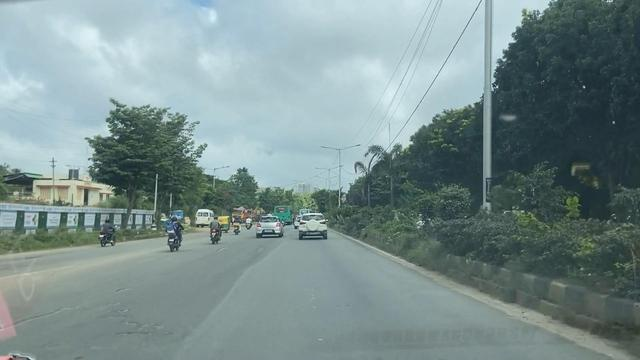LMV: (291, 209, 328, 241), (251, 210, 285, 241), (163, 211, 186, 253), (98, 213, 120, 251), (207, 213, 225, 248)
RoadDamages: (8, 295, 86, 329)
